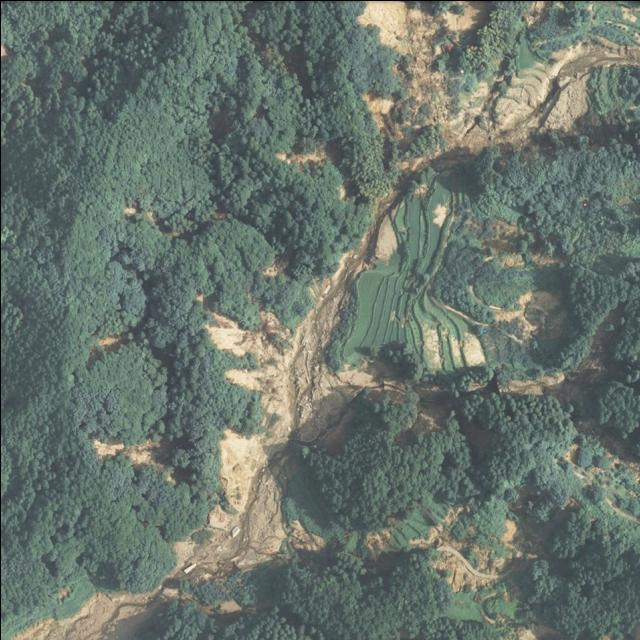landslide: (14, 197, 397, 640), (487, 40, 640, 140), (357, 0, 487, 73)
